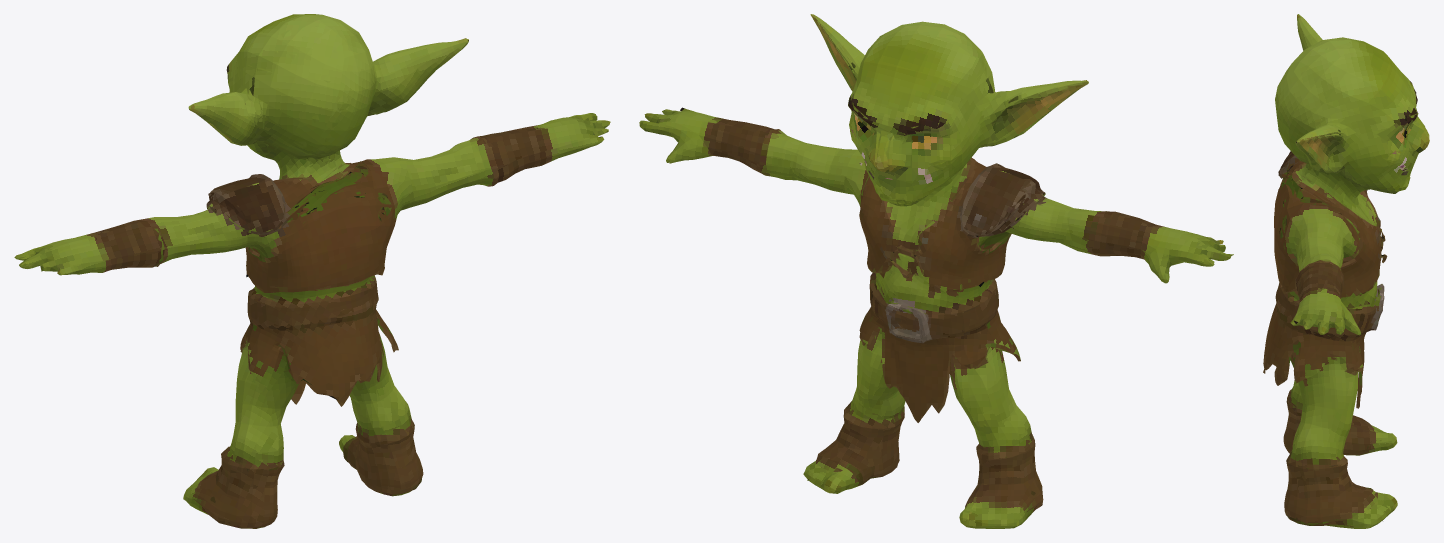
The model's file is Variant_B_QuadRetro.glb.
The picture shows the model from 3 angles, left to right: view 1: azimuth 30°, elevation 25°; view 2: azimuth 150°, elevation 25°; view 3: azimuth 270°, elevation 25°; orthographic projection. The views are drawn at different scales.
Visible parts, largest first — view 1: Variant_B_QuadRemesh; view 2: Variant_B_QuadRemesh; view 3: Variant_B_QuadRemesh.
Boxes of the visible parts, <box> form: Variant_B_QuadRemesh: <box>14,14,610,528</box>; Variant_B_QuadRemesh: <box>639,14,1233,528</box>; Variant_B_QuadRemesh: <box>1263,14,1429,528</box>.
Bounding box in the file's own units: 2.61 × 2 × 0.6822.
Materials: 1 (1 with a texture image).
